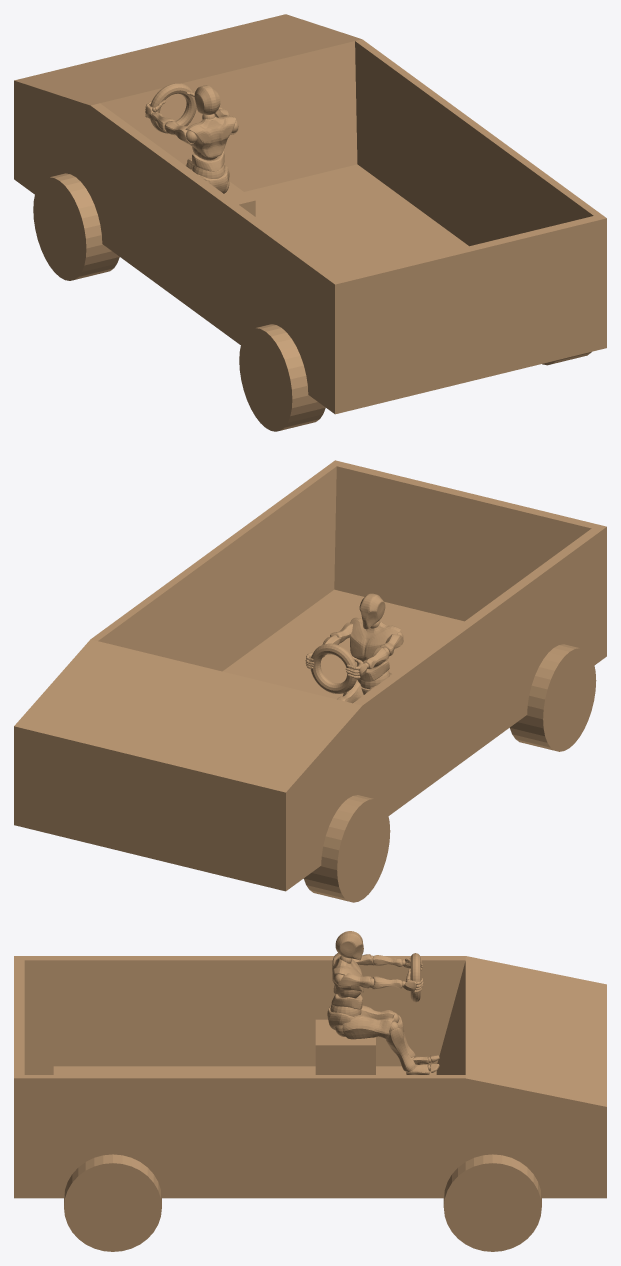
The model's file is four-wheel-variant.glb.
The picture shows the model from 3 angles, top to bottom: view 1: azimuth 30°, elevation 25°; view 2: azimuth 150°, elevation 25°; view 3: azimuth 270°, elevation 25°; orthographic projection. The views are drawn at different scales.
Visible parts, largest first — view 1: xier120.four-wheel-variant.mesh.002, xier120.four-wheel-variant.mesh.000, xier120.four-wheel-variant.mesh.001; view 2: xier120.four-wheel-variant.mesh.002, xier120.four-wheel-variant.mesh.000; view 3: xier120.four-wheel-variant.mesh.002, xier120.four-wheel-variant.mesh.000, xier120.four-wheel-variant.mesh.001.
Part boxes in pixels (x1,y1,x2,y2): xier120.four-wheel-variant.mesh.002: (14,14,606,431); xier120.four-wheel-variant.mesh.000: (145,85,238,192); xier120.four-wheel-variant.mesh.001: (145,92,238,193); xier120.four-wheel-variant.mesh.002: (14,460,606,902); xier120.four-wheel-variant.mesh.000: (305,593,403,703); xier120.four-wheel-variant.mesh.002: (14,953,606,1251); xier120.four-wheel-variant.mesh.000: (327,931,439,1074); xier120.four-wheel-variant.mesh.001: (330,955,431,1072).
Bounding box in the file's own units: 2.85 × 2.04 × 5.16.
